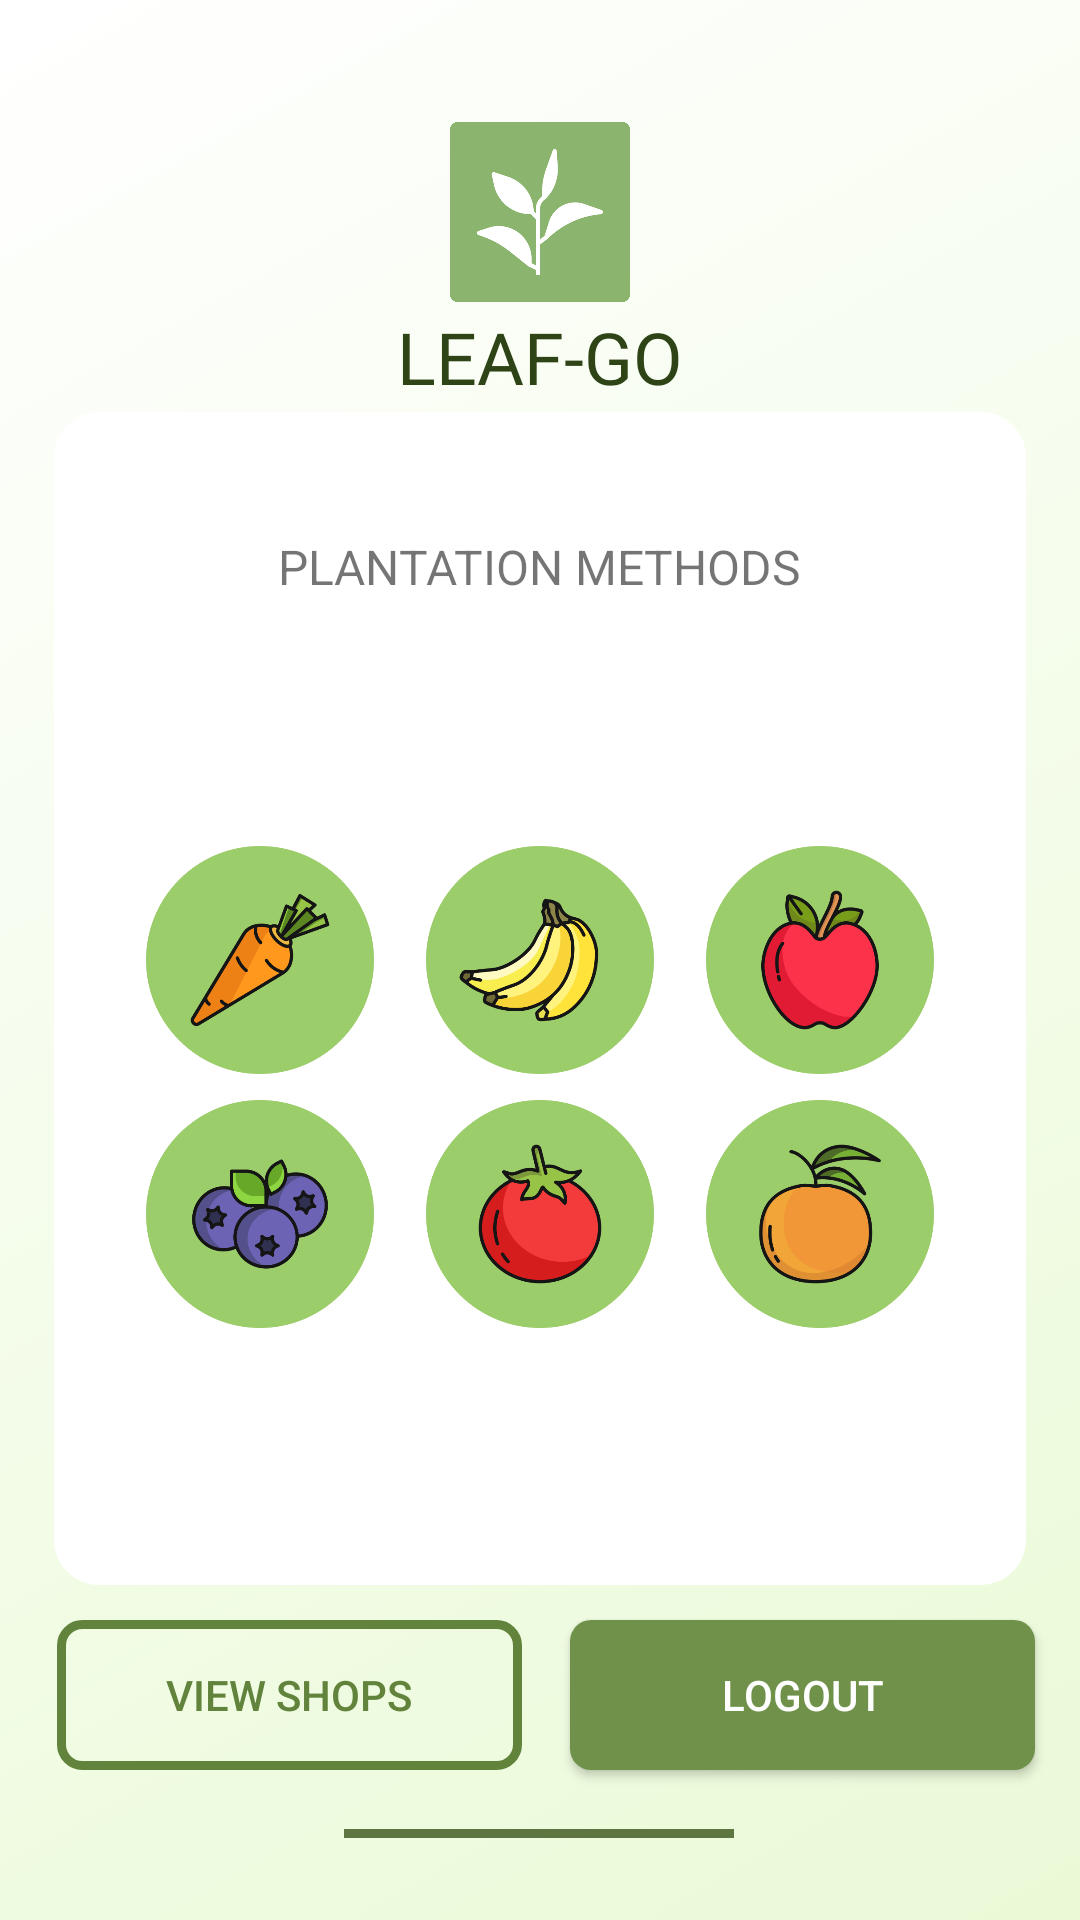

Locate icon controls on the screen. Image size 1080×1920, boxes as (x1,y1,x2,y2).
apple: (706,846,934,1074)
bananas: (426,846,654,1074)
blueberry: (146,1100,374,1328)
carrot: (146,846,374,1074)
ora: (706,1100,934,1328)
tomato: (426,1100,654,1328)
